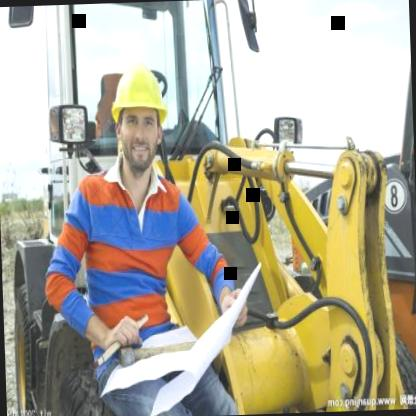helmet: (103, 54, 176, 181)
